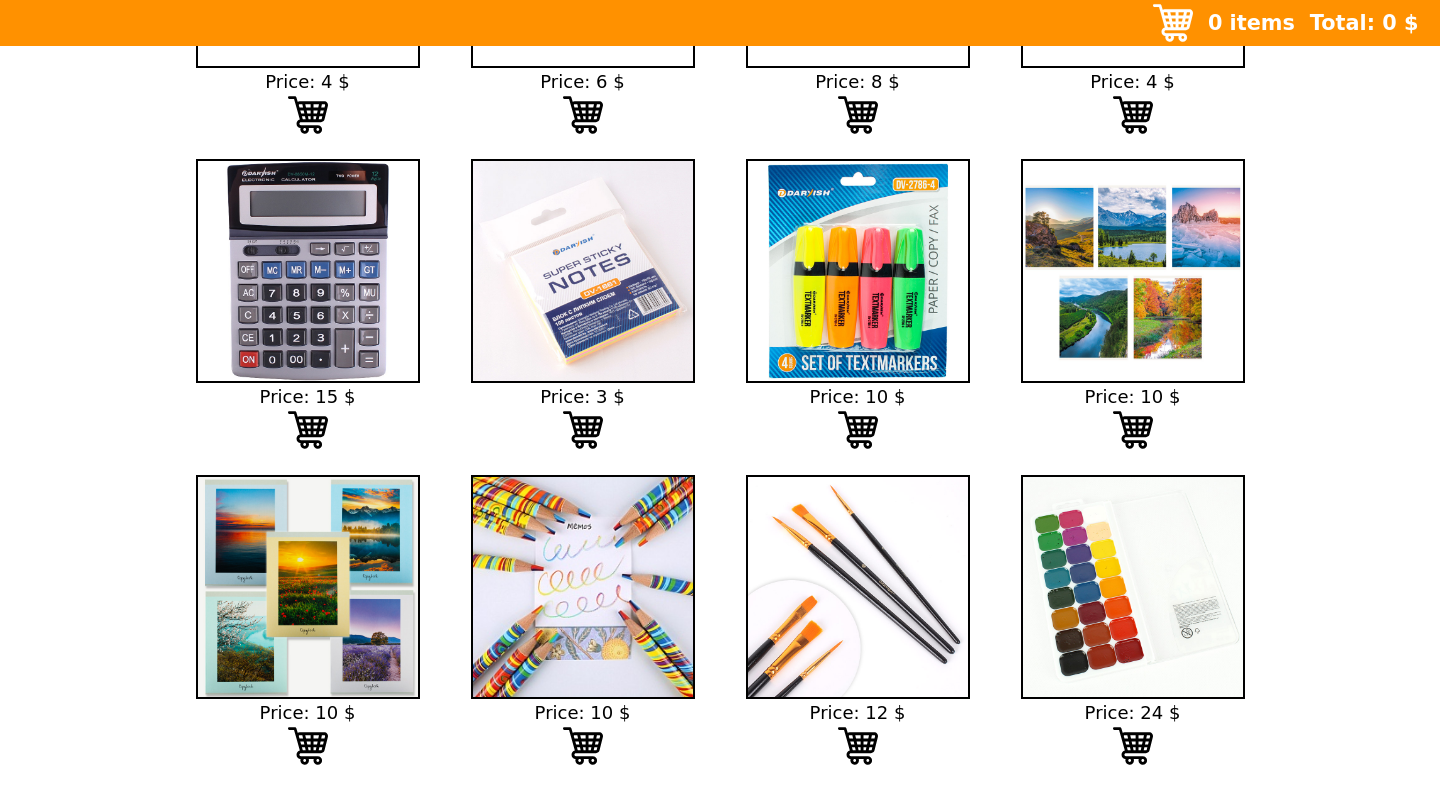
Shop component › total sum and number of items change if you add something to the cart
The image size is (1440, 810).
(page scrolled)
Click the picture with test id "cart-11" at (1132,746), box [1112,726,1152,766]
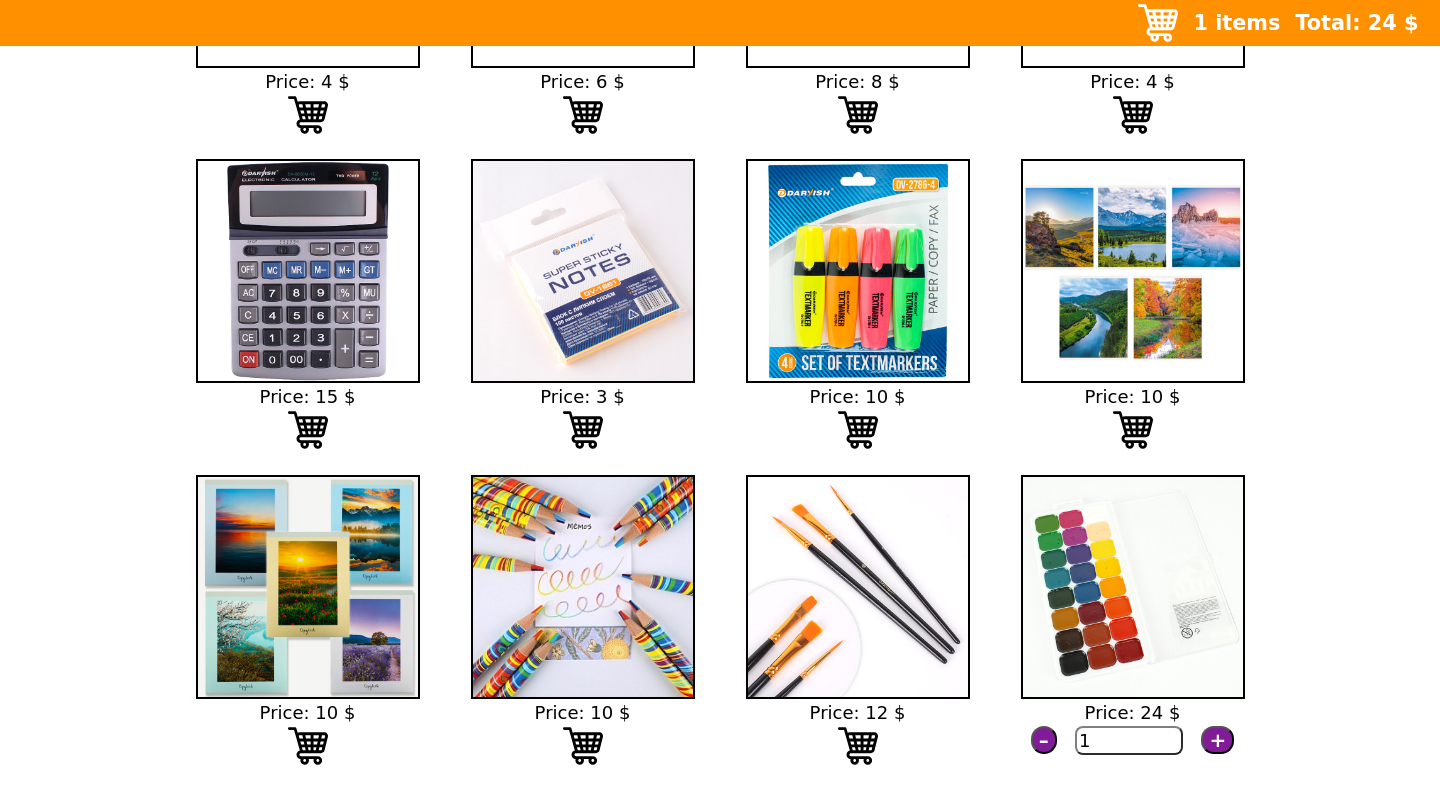
Click the button "+" at (1218,740), box [1201,726,1234,754]
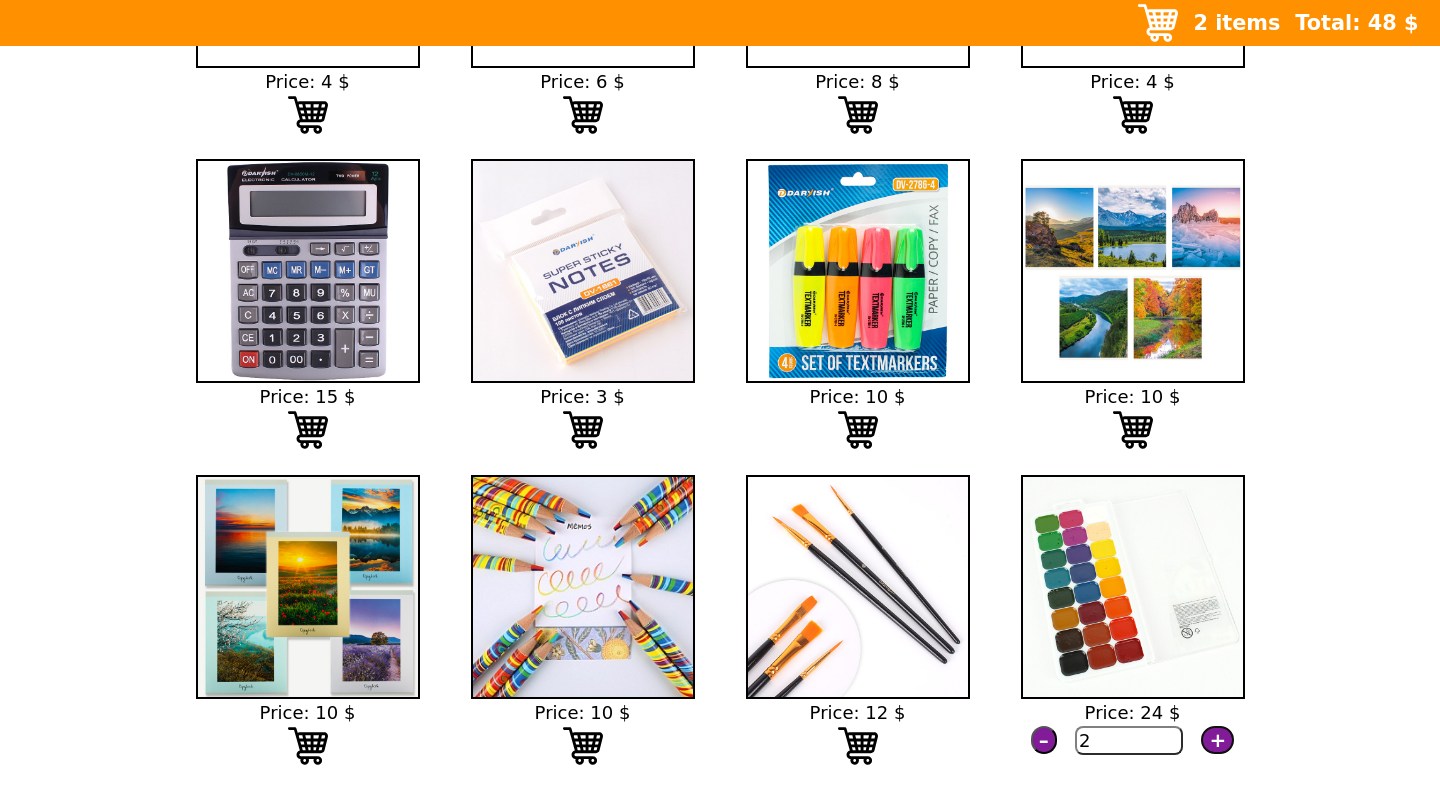
Expected: the field with test id "input-11" holds "2", [1075,726,1183,755]
Expected: the text with test id "number-of-items" reads "2 items", [1193,11,1280,35]
Expected: the text with test id "sum-of-items" reads "Total: 48 $", [1295,11,1418,35]
